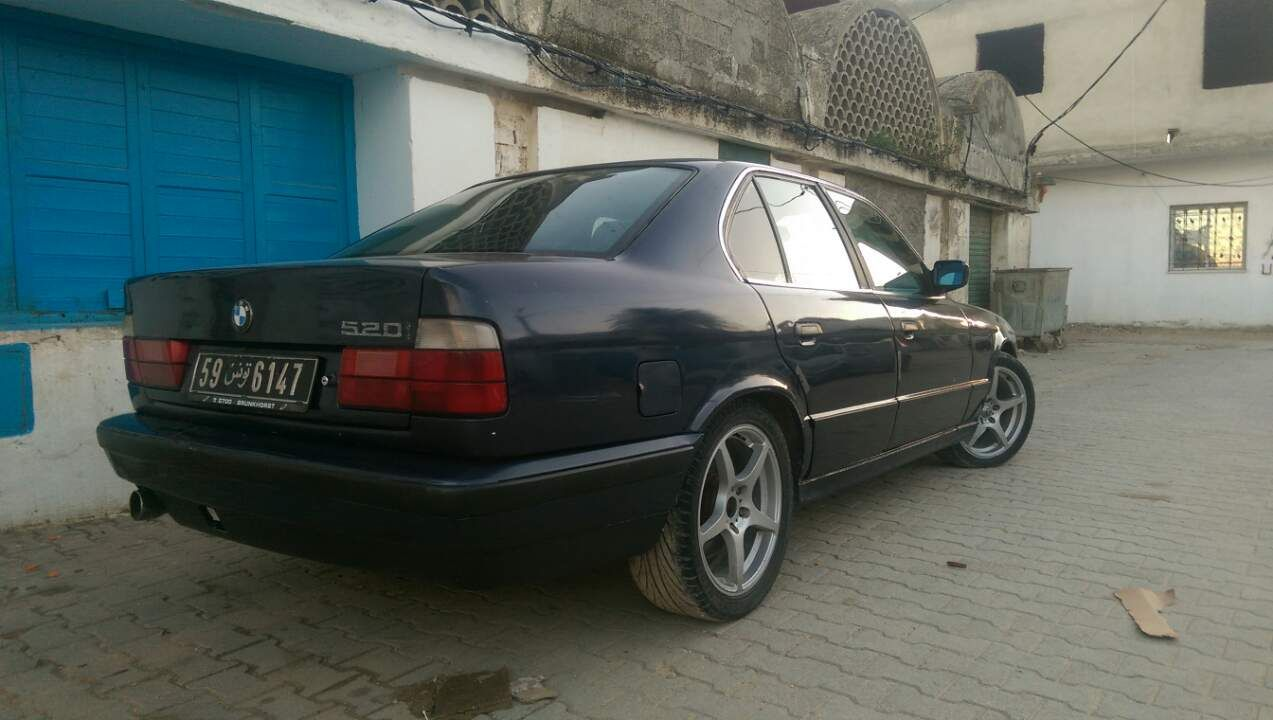LP: (187, 348, 320, 406)
